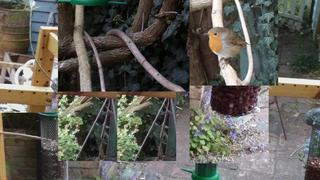robin: (203, 27, 252, 69)
